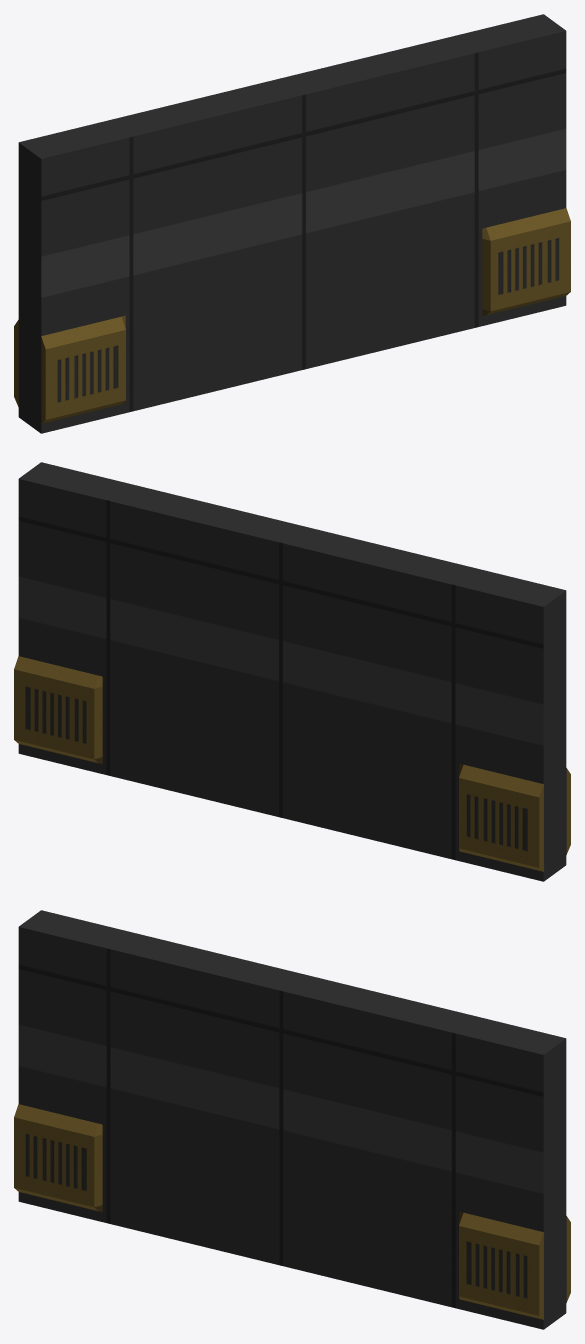
Rendered from Wall_02.fbx.
3 renders of one model, top to bottom at view 1: azimuth 30°, elevation 25°; view 2: azimuth 150°, elevation 25°; view 3: azimuth 330°, elevation 25°, orthographic.
Parts seen in each view (by area): view 1: Wall_02 Low Poly; view 2: Wall_02 Low Poly; view 3: Wall_02 Low Poly.
Boxes of the visible parts, x1,y1,x2,y2 form: Wall_02 Low Poly: [14, 14, 570, 433]; Wall_02 Low Poly: [14, 462, 570, 881]; Wall_02 Low Poly: [14, 910, 570, 1329].
Size of the model in its own units: 400 by 200 by 41.87.
Materials: 1 (1 with a texture image).
